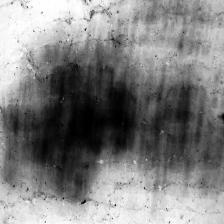Benign Marking or Mole: (0, 62, 203, 196)
